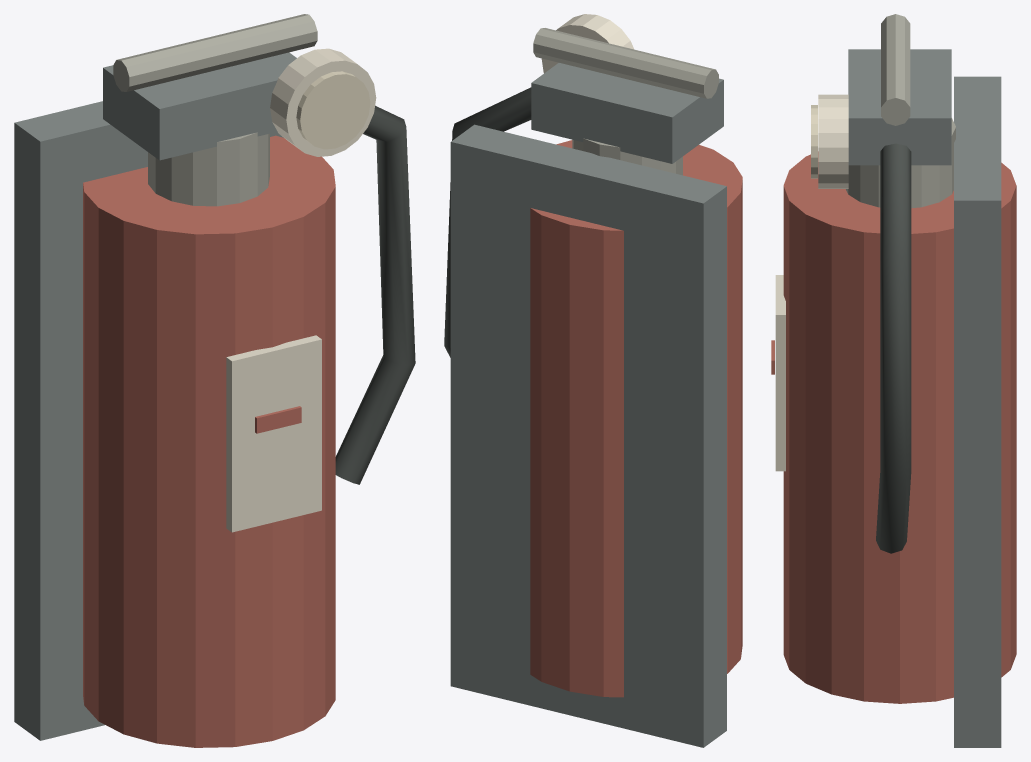
Rendered from corridor_fire_extinguisher.glb.
3 views of the same model, side by side, from view 1: azimuth 30°, elevation 25°; view 2: azimuth 150°, elevation 25°; view 3: azimuth 270°, elevation 25° (orthographic). The views are drawn at different scales.
Visible parts, largest first — view 1: Extinguisher_body, Mounting_plate, Safety_label, Extinguisher_hose, Valve_block, Lever, Extinguisher_neck, Gauge_face, Gauge_case, Label_mark; view 2: Mounting_plate, Extinguisher_body, Valve_block, Lever, Extinguisher_hose, Gauge_case, Extinguisher_neck; view 3: Extinguisher_body, Mounting_plate, Extinguisher_hose, Valve_block, Lever, Extinguisher_neck, Gauge_case, Safety_label, Gauge_face.
Part boxes in pixels (x1,y1,x2,y2): Extinguisher_body: (83,135,335,747); Mounting_plate: (14,101,283,740); Safety_label: (226,335,321,532); Extinguisher_hose: (335,105,415,484); Valve_block: (103,52,296,160); Lever: (113,14,317,91); Extinguisher_neck: (148,132,269,206); Gauge_face: (296,71,370,149); Gauge_case: (270,48,376,156); Label_mark: (255,406,301,433); Mounting_plate: (450,124,726,747); Extinguisher_body: (530,140,742,697); Valve_block: (531,63,723,163); Lever: (533,28,718,98); Extinguisher_hose: (444,87,531,357); Gauge_case: (541,14,634,73); Extinguisher_neck: (572,138,682,175); Extinguisher_body: (783,151,1016,703); Mounting_plate: (954,76,1001,747); Extinguisher_hose: (876,143,911,553); Valve_block: (848,49,951,165); Lever: (881,14,910,125); Extinguisher_neck: (846,118,955,208); Gauge_case: (818,94,848,188); Safety_label: (775,275,785,471); Gauge_face: (811,105,817,178).
Bounding box in the file's own units: 0.4175 × 0.808 × 0.284.
